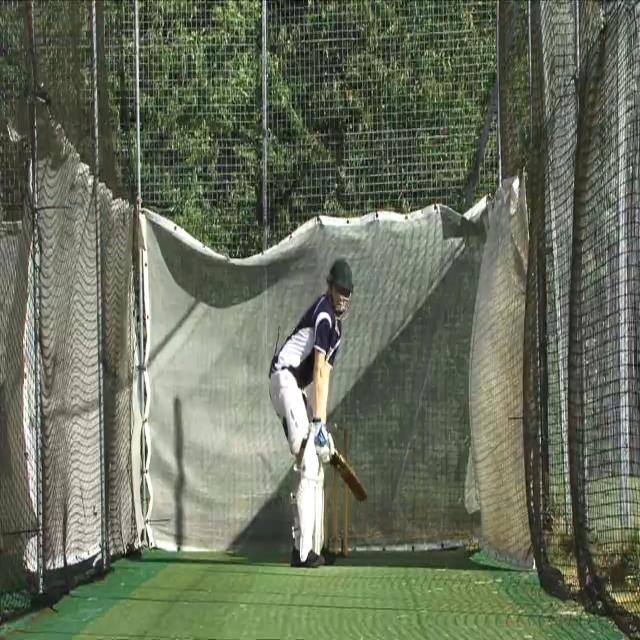batsman: (267, 256, 369, 572)
